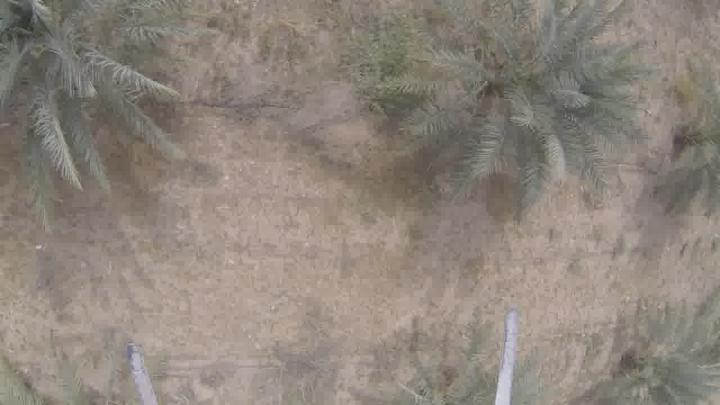Date-Palm-Crown: (422, 1, 600, 164), (0, 0, 162, 156), (628, 312, 720, 404), (410, 354, 552, 404), (0, 350, 102, 404), (688, 75, 720, 193)
